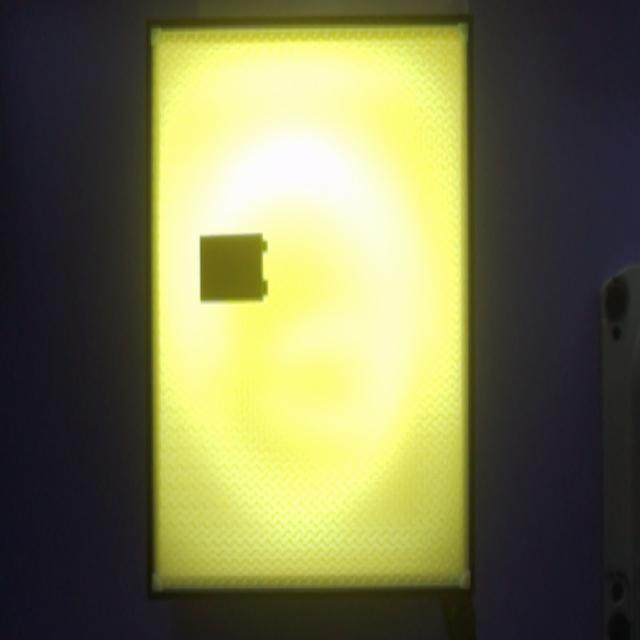bateria: (200, 234, 267, 301)
mesa: (147, 17, 474, 601)
